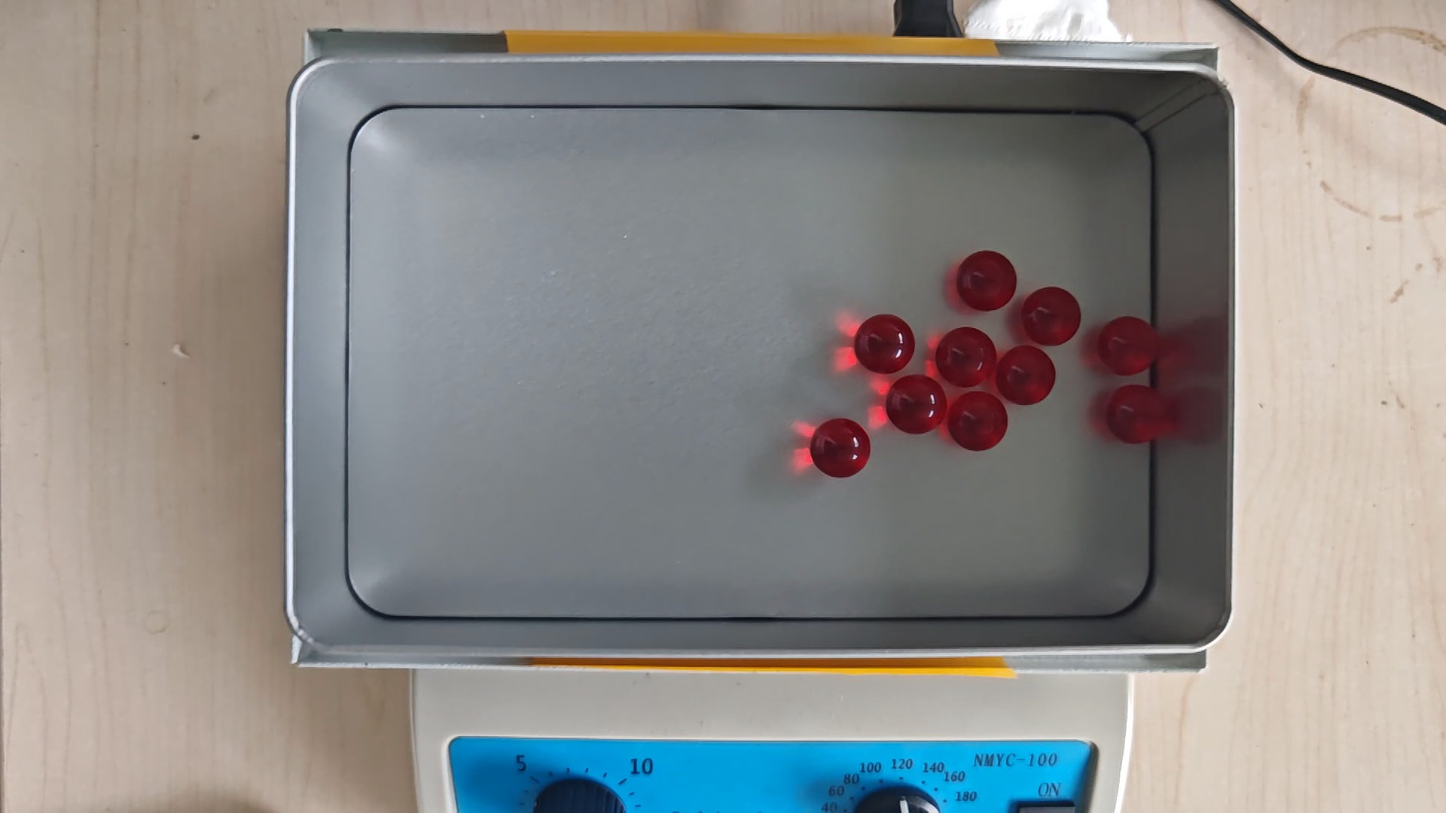ball: (855, 313, 916, 376), (948, 390, 1008, 452), (810, 417, 870, 479), (886, 374, 946, 435), (936, 326, 996, 387), (1106, 385, 1166, 445), (957, 250, 1016, 311), (1099, 316, 1158, 376), (1022, 286, 1081, 346), (998, 344, 1056, 405)
container: (347, 107, 1153, 619)
